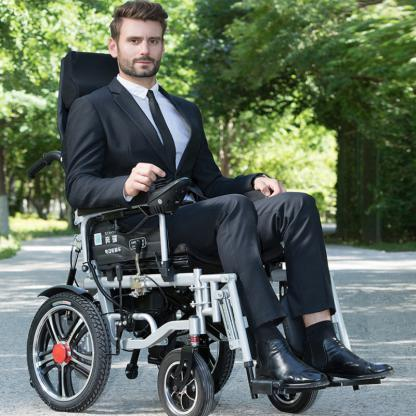wheelchair: (27, 0, 396, 415)
